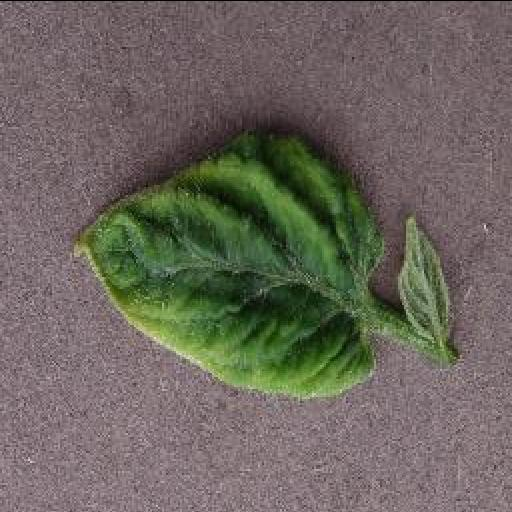disease_tomato: (72, 128, 386, 394)
